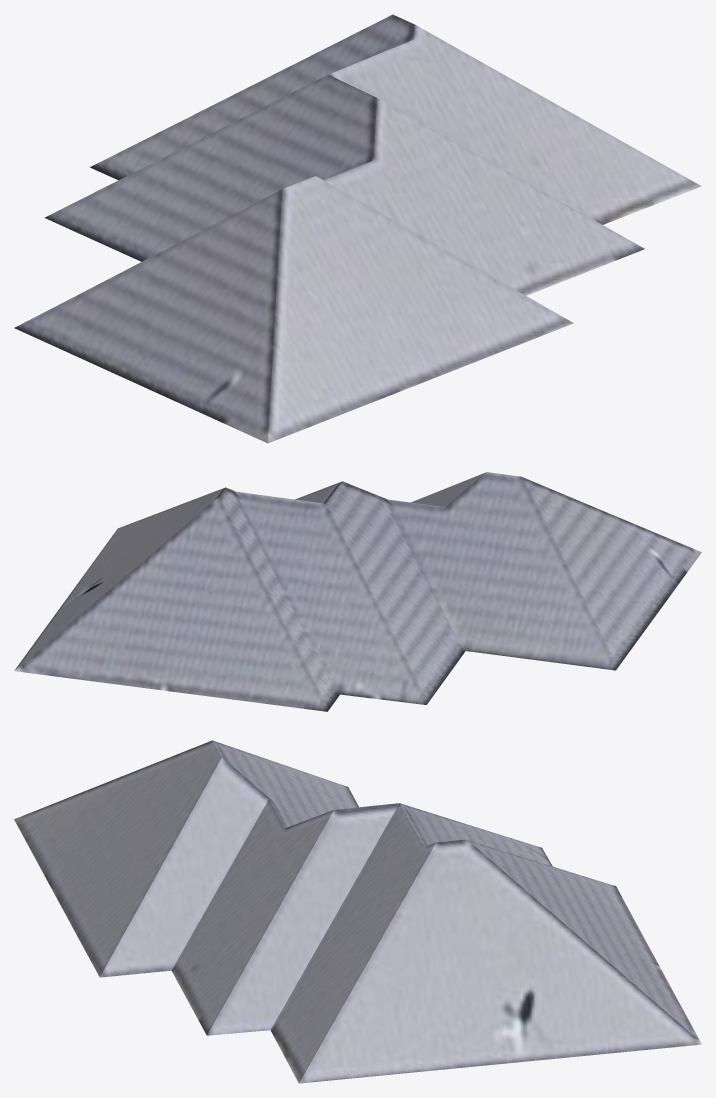
Rendered from BK39_500_016030_0036_roof.obj.
The picture shows the model from 3 angles, top to bottom: view 1: azimuth 30°, elevation 25°; view 2: azimuth 150°, elevation 25°; view 3: azimuth 270°, elevation 25°; orthographic projection. The views are drawn at different scales.
Parts seen in each view (by area): view 1: BK39_500_016030_0036_roof; view 2: BK39_500_016030_0036_roof; view 3: BK39_500_016030_0036_roof.
Boxes of the visible parts, bbox=[...] form: BK39_500_016030_0036_roof: bbox=[14, 14, 701, 443]; BK39_500_016030_0036_roof: bbox=[14, 472, 701, 711]; BK39_500_016030_0036_roof: bbox=[14, 740, 701, 1083].
Size of the model in its own units: 305 by 70 by 299.
1 material, 1 textured.
